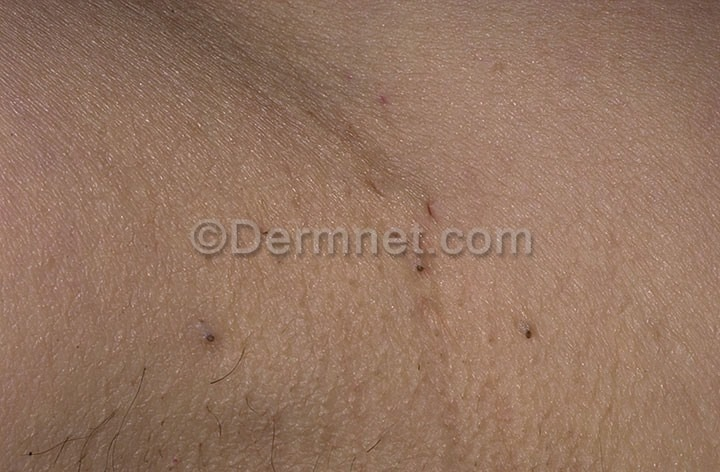Acne: (156, 5, 559, 373)
